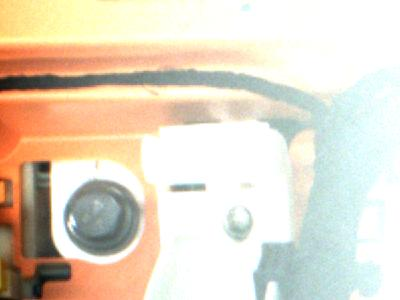nut_b: (57, 175, 148, 257)
